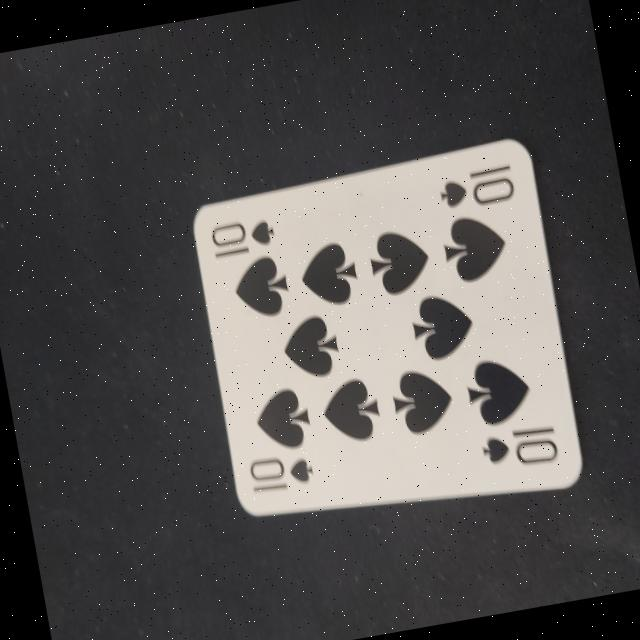10s: (428, 153, 526, 220), (475, 414, 572, 476), (203, 206, 282, 266), (242, 444, 324, 500)
